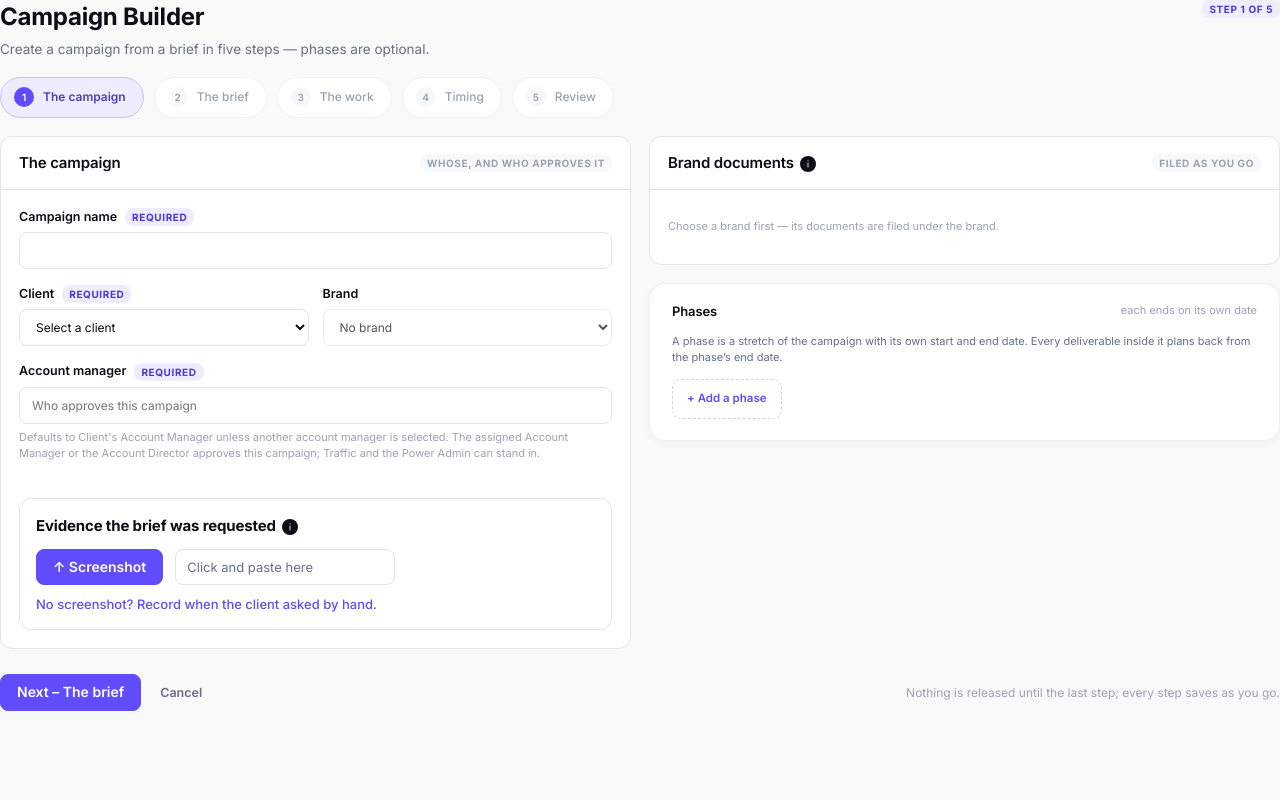
BriefWizard (ADR-0020, frames 21.1–21.5) › blocks advancing past Job Type until client and name are set
Step 1. Click the button with test id "wizard-next" → (71,693), box left=0, top=674, right=141, bottom=711
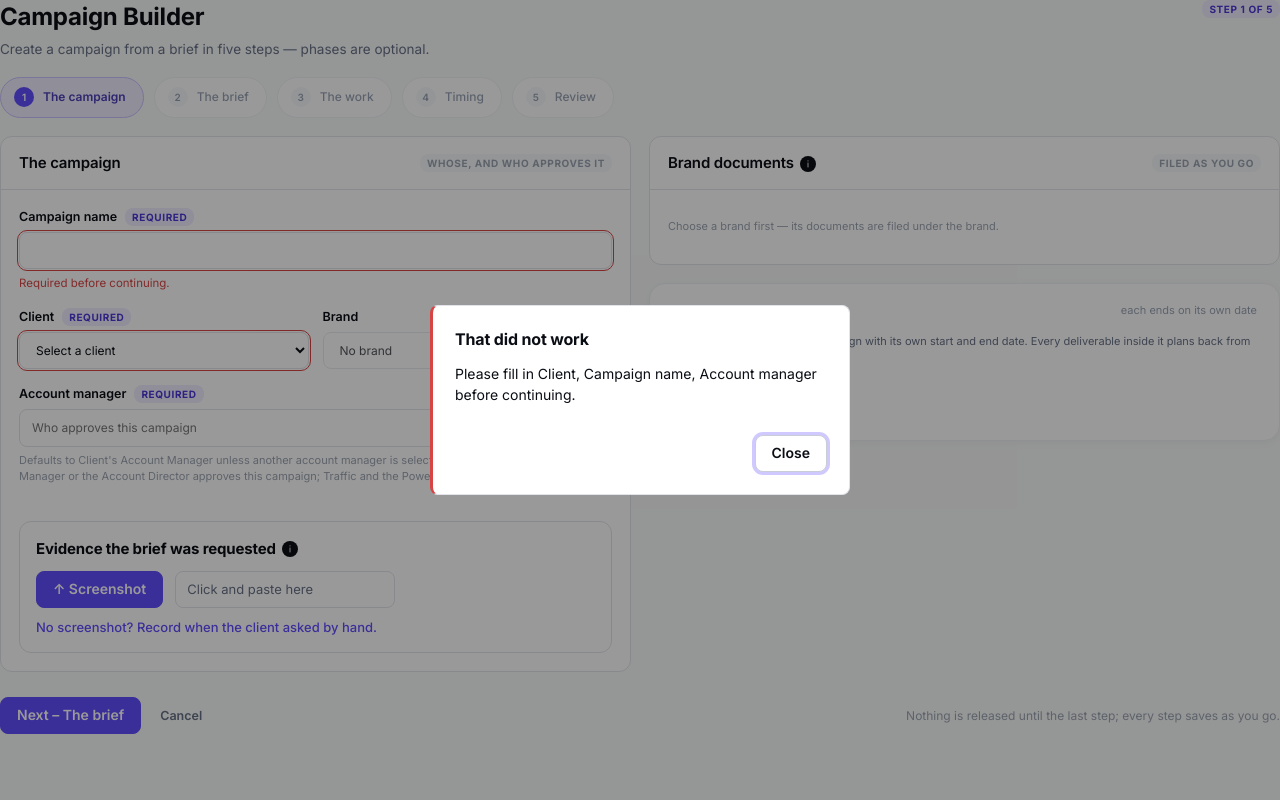
Expected: the text with test id "wizard-error" is shown, left=455, top=363, right=827, bottom=405
